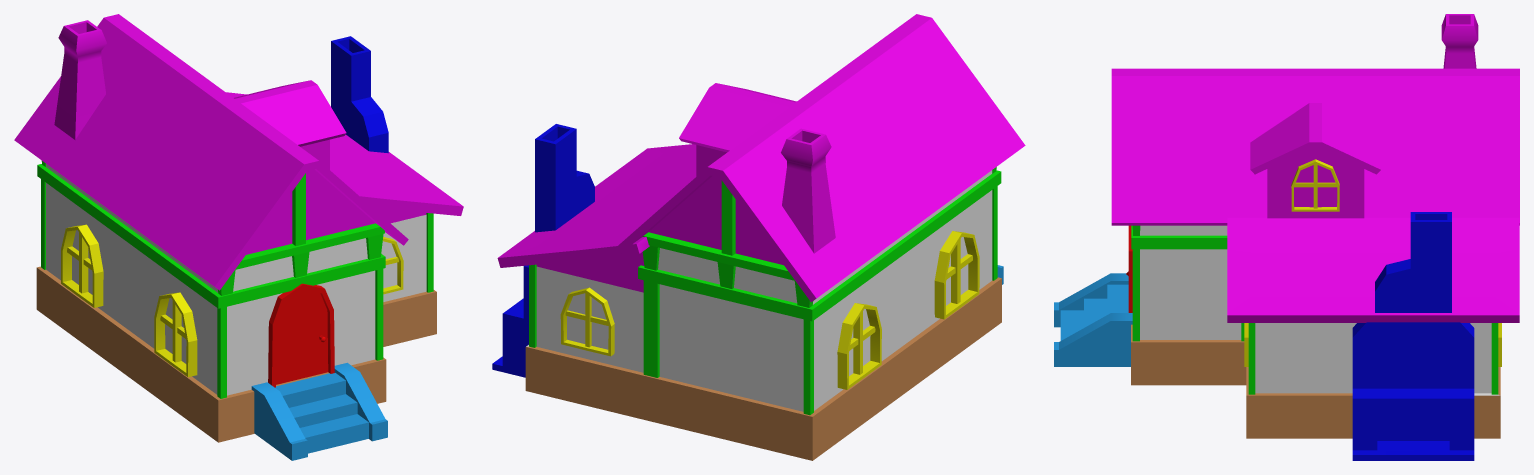
Rendered from Chimney_House_UV.fbx.
3 views of the same model, side by side, from view 1: azimuth 30°, elevation 25°; view 2: azimuth 150°, elevation 25°; view 3: azimuth 270°, elevation 25° (orthographic). The views are drawn at different scales.
Parts seen in each view (by area): view 1: pCube11, Base, pCube12, pCube16, Little_Roof, Oven_Ch, House_Ch, pCylinder3, pCube29, pCylinder13, pCylinder12, pCube10 (+10 smaller); view 2: Base, pCube11, pCube12, Oven_Ch, pCube16, Little_Roof, House_Ch, pCylinder13, pCylinder12, pCube10, pCylinder11, pCube37 (+4 smaller); view 3: pCube11, Base, pCube12, Oven_Ch, Little_Roof, pCube28, House_Ch, pCube16, pCube29, pCylinder14, pCube17, pCube2 (+4 smaller).
Boxes of the visible parts, x1,y1,x2,y2 form: pCube11: (14, 14, 408, 290); Base: (36, 164, 436, 442); pCube12: (226, 92, 463, 223); pCube16: (37, 164, 385, 308); Little_Roof: (234, 80, 346, 169); Oven_Ch: (331, 36, 388, 153); House_Ch: (54, 20, 106, 139); pCylinder3: (276, 289, 328, 384); pCube29: (251, 382, 307, 460); pCylinder13: (154, 292, 197, 377); pCylinder12: (61, 224, 103, 307); pCube10: (235, 223, 384, 269); Base: (525, 170, 1001, 460); pCube11: (614, 14, 1025, 302); pCube12: (497, 144, 696, 292); Oven_Ch: (492, 124, 594, 377); pCube16: (638, 170, 1001, 321); Little_Roof: (679, 83, 796, 176); House_Ch: (781, 128, 835, 253); pCylinder13: (934, 231, 979, 319); pCylinder12: (837, 303, 881, 389); pCube10: (642, 232, 794, 280); pCylinder11: (560, 287, 614, 356); pCube37: (643, 280, 659, 377); pCube11: (1111, 68, 1519, 225); Base: (1131, 225, 1500, 438); pCube12: (1227, 217, 1519, 322); Oven_Ch: (1352, 212, 1474, 460); Little_Roof: (1250, 103, 1381, 218); pCube28: (1054, 313, 1132, 366); House_Ch: (1441, 14, 1478, 68); pCube16: (1131, 225, 1227, 249); pCube29: (1054, 273, 1128, 327); pCylinder14: (1291, 159, 1339, 211); pCube17: (1132, 249, 1139, 341); pCube2: (1107, 284, 1128, 314).
Size of the model in its own units: 16.71 by 13.89 by 19.87.
